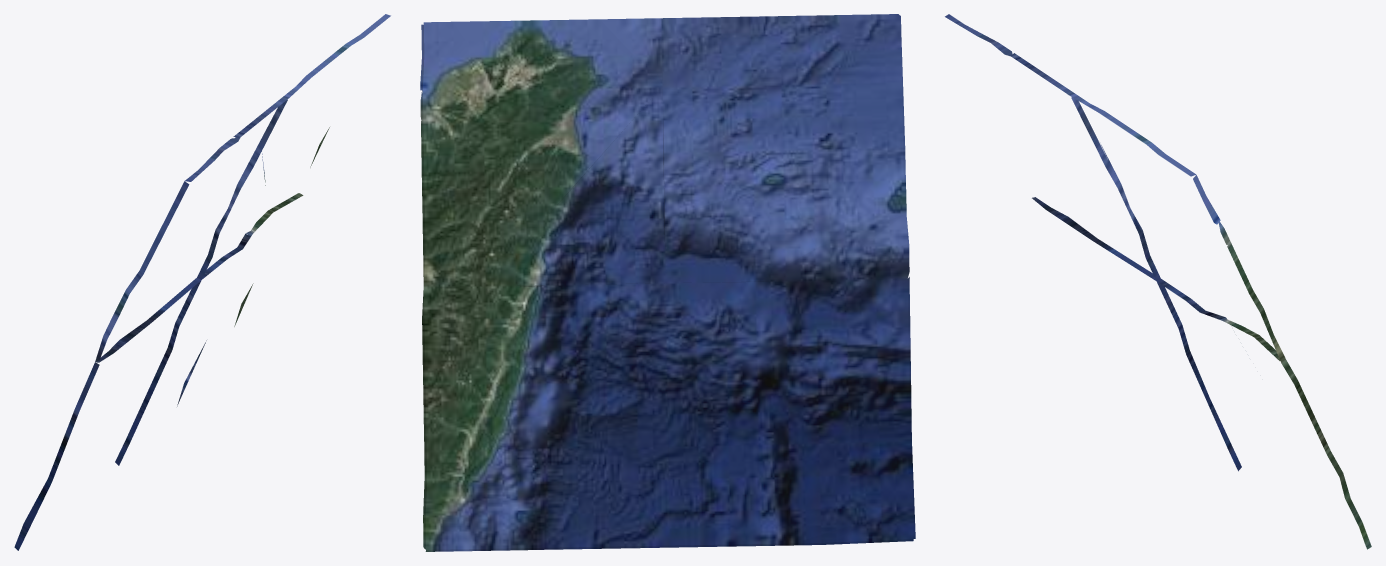
The picture shows the model from 3 angles, left to right: view 1: azimuth 30°, elevation 25°; view 2: azimuth 150°, elevation 25°; view 3: azimuth 270°, elevation 25°; orthographic projection. The views are drawn at different scales.
Size of the model in its own units: 309869 by 291529 by 266412.
Materials: 1 (1 with a texture image).
